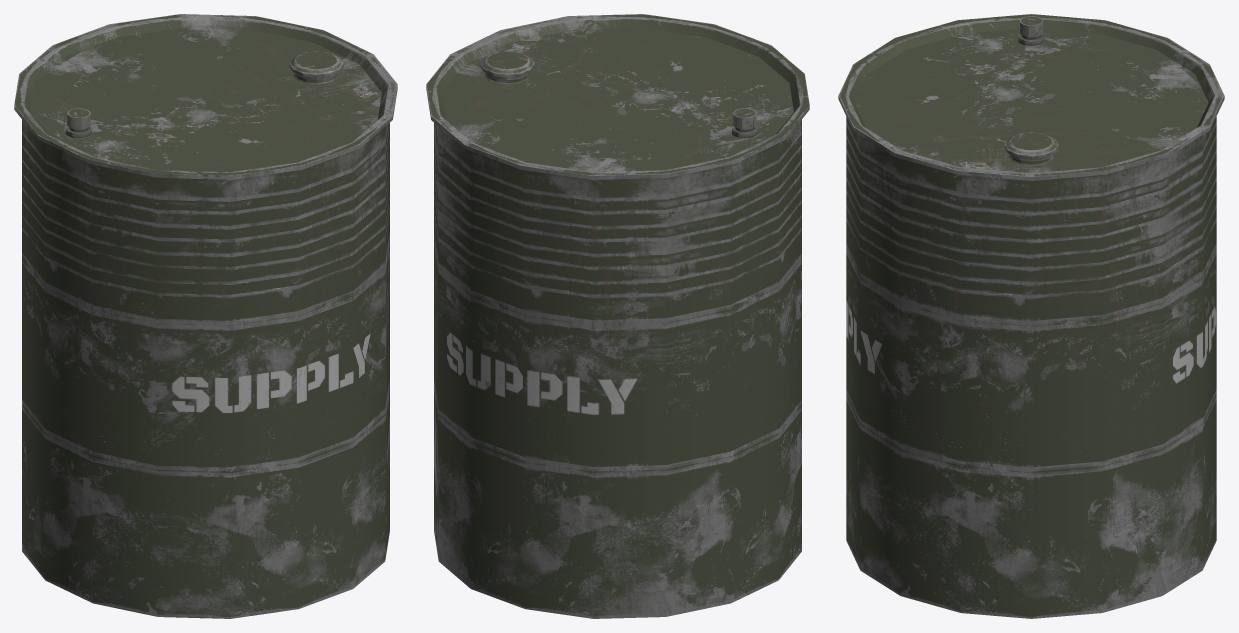
File: drum.glb
The picture shows the model from 3 angles, left to right: view 1: azimuth 30°, elevation 25°; view 2: azimuth 150°, elevation 25°; view 3: azimuth 270°, elevation 25°; orthographic projection.
Visible parts, largest first — view 1: drum_low.003; view 2: drum_low.003; view 3: drum_low.003.
Boxes of the visible parts, left/top/right/bottom form: drum_low.003: left=14, top=14, right=397, bottom=618; drum_low.003: left=426, top=14, right=809, bottom=618; drum_low.003: left=838, top=14, right=1224, bottom=618.
Bounding box in the file's own units: 0.8664 × 1.13 × 0.8664.
Materials: 1 (1 with a texture image).
